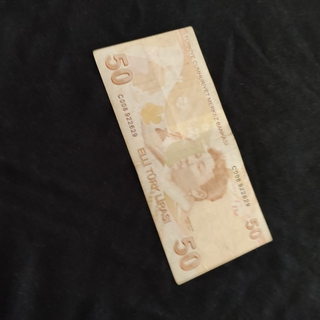50TLBack: (93, 25, 274, 284)
